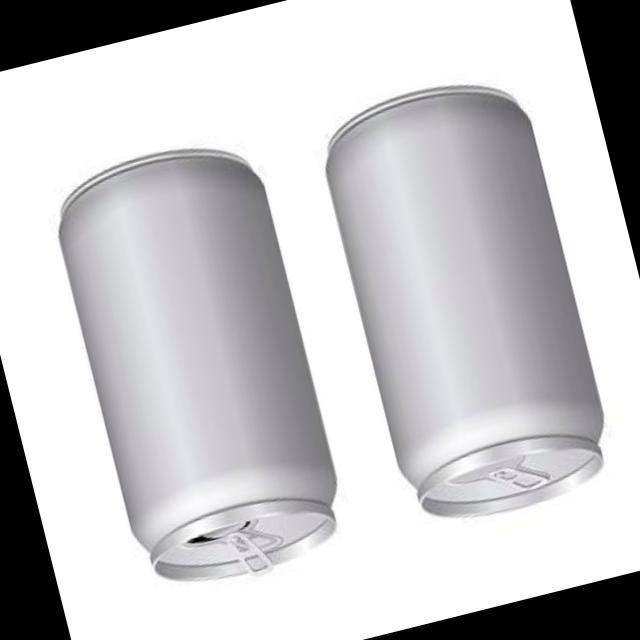metal: (61, 153, 337, 581), (329, 90, 604, 517)
